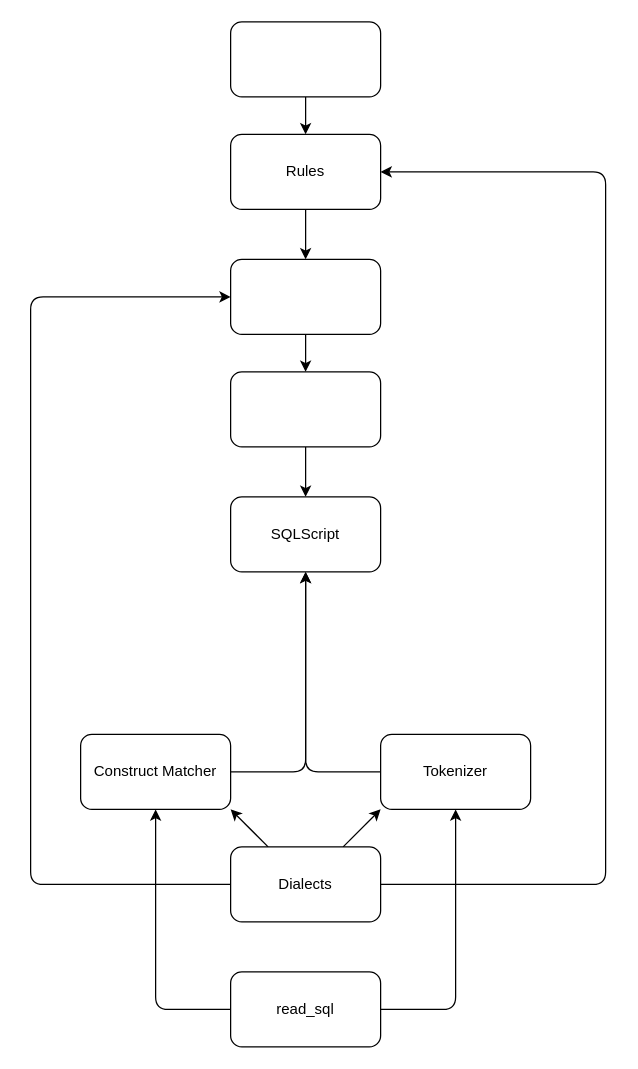
Image size: 638x1069. Some labels were removed from this diagram. Here are the shapes that lost their labels. From the top down, the centre of each, then its label:
At (305,59): "Lexems".
At (305,296): "Rulebooks".
At (305,409): "Formatting Engine".
